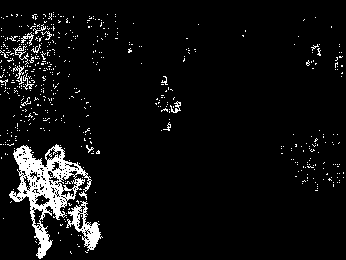person: (42, 143, 103, 253), (10, 144, 57, 260)
